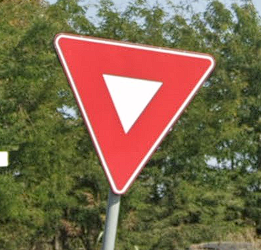cedeaza: (50, 27, 217, 200)
